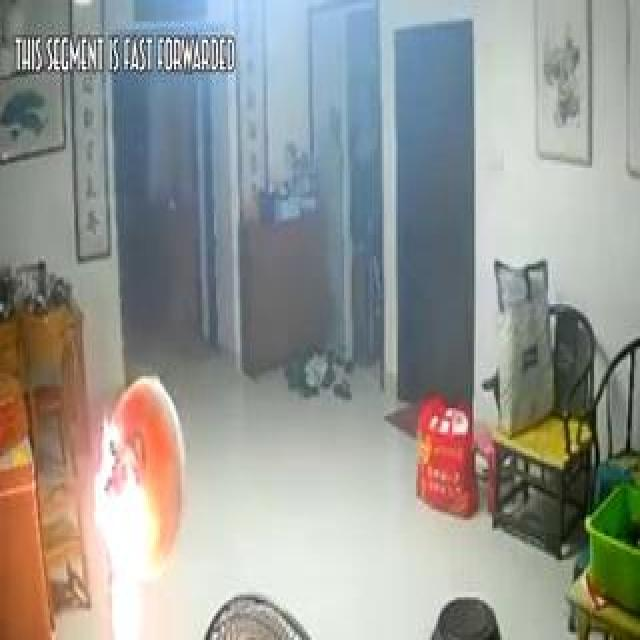Fire: (100, 438, 166, 638)
